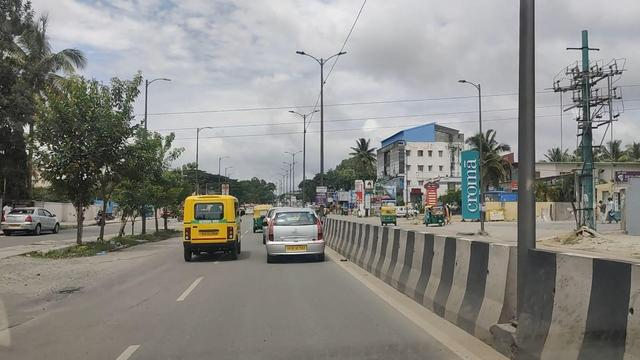LMV: (176, 197, 247, 261), (256, 206, 327, 269)
RoadDamages: (47, 281, 94, 301)
